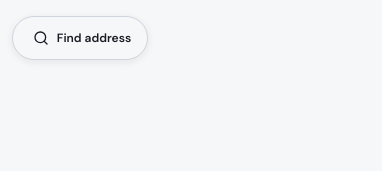
aborts and ignores a previous result when the query changes
The width and height of the screenshot is (382, 171).
Replace the text in the search field named "Find an address or postal code" with "old": (80, 38) 12,16 -> 148,60
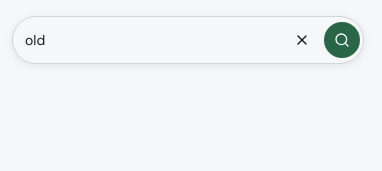
Click the button named "Search map addresses": (342, 40) 324,22 -> 360,58
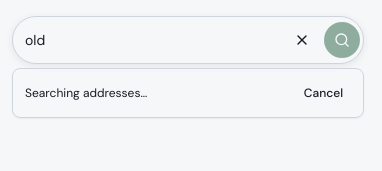
Replace the text in the search field named "Find an address or postal code" with "new": (148, 40) 16,22 -> 280,58
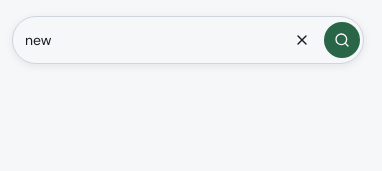
Click the button named "Search map addresses": (342, 40) 324,22 -> 360,58
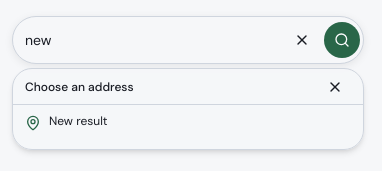
Now the button "New result" is shown, box 13,105 -> 363,149
